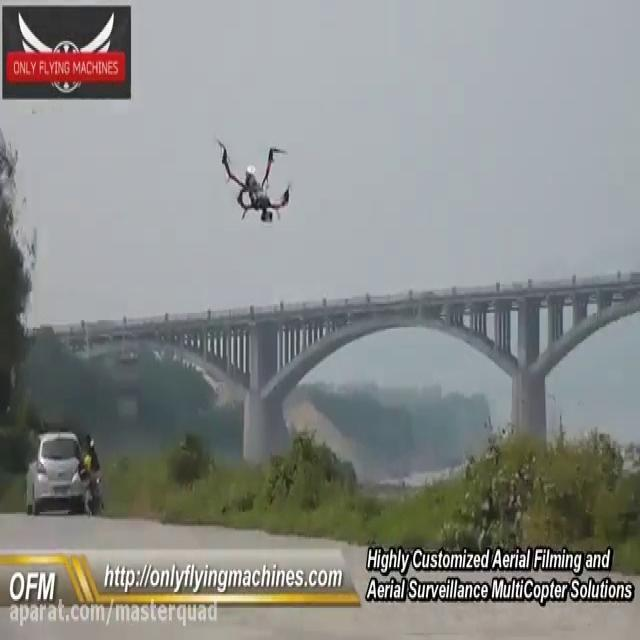drone: (213, 132, 293, 228)
